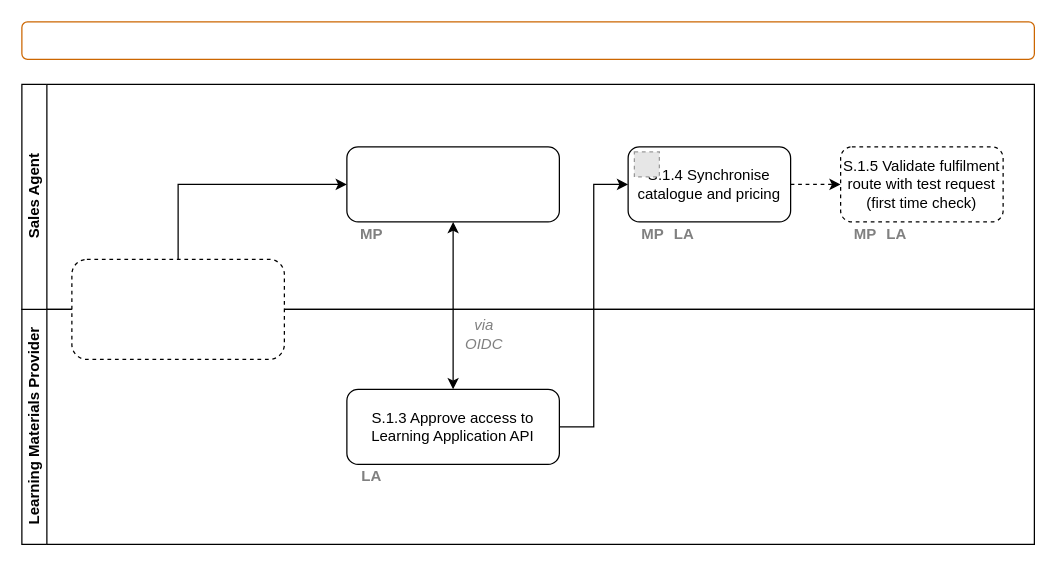
Image size: 1056x566. Some labels were removed from this diagram. Grey dashed boxes stand in for pictures. The shapes that lost their labels are listed below. From the top down, each one's centre as x and y in pixels, then its label:
point (527, 40): S.1.0 Learning Application establishes relationship with Sales Agent
point (452, 184): S.1.2 Establish connection from Marketplace to Learning Application
point (177, 308): S.1.1 Off-line negotiation and establishment of commercial relationship
